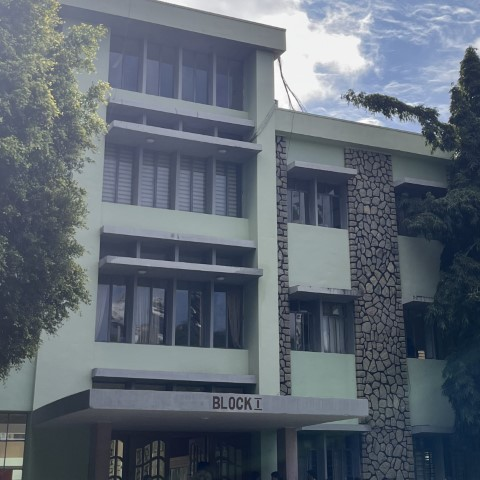Block 1: (84, 6, 439, 480)
